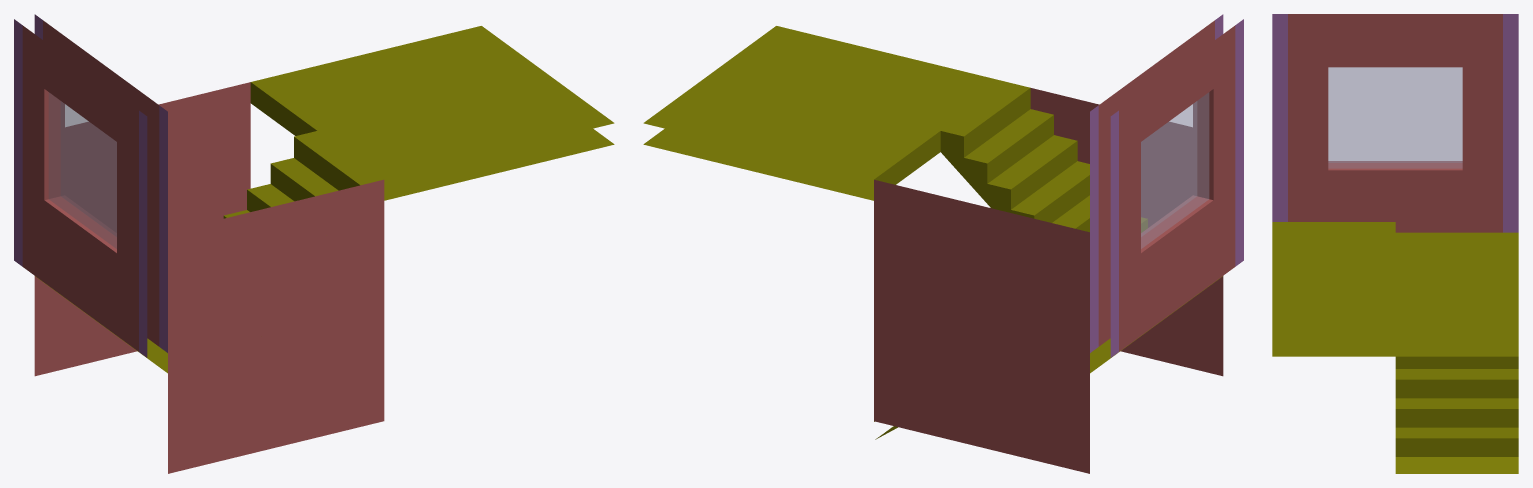
File: PorchBP.fbx
The picture shows the model from 3 angles, left to right: view 1: azimuth 30°, elevation 25°; view 2: azimuth 150°, elevation 25°; view 3: azimuth 270°, elevation 25°; orthographic projection. The views are drawn at different scales.
Parts seen in each view (by area): view 1: Porch_outerWall, ladder_floor, window, outerPillar; view 2: Porch_outerWall, ladder_floor, window, outerPillar; view 3: ladder_floor, Porch_outerWall, window, outerPillar.
Part boxes in pixels (left/top/right/bottom): Porch_outerWall: left=22, top=20, right=384, bottom=473; ladder_floor: left=35, top=26, right=614, bottom=373; window: left=49, top=93, right=116, bottom=248; outerPillar: left=14, top=14, right=167, bottom=357; Porch_outerWall: left=874, top=20, right=1235, bottom=473; ladder_floor: left=643, top=26, right=1222, bottom=439; window: left=1141, top=93, right=1208, bottom=248; outerPillar: left=1090, top=14, right=1243, bottom=357; ladder_floor: left=1272, top=222, right=1518, bottom=473; Porch_outerWall: left=1288, top=14, right=1502, bottom=232; window: left=1328, top=67, right=1462, bottom=168; outerPillar: left=1272, top=14, right=1518, bottom=232.
Size of the model in its own units: 2.03 by 1.58 by 1.
